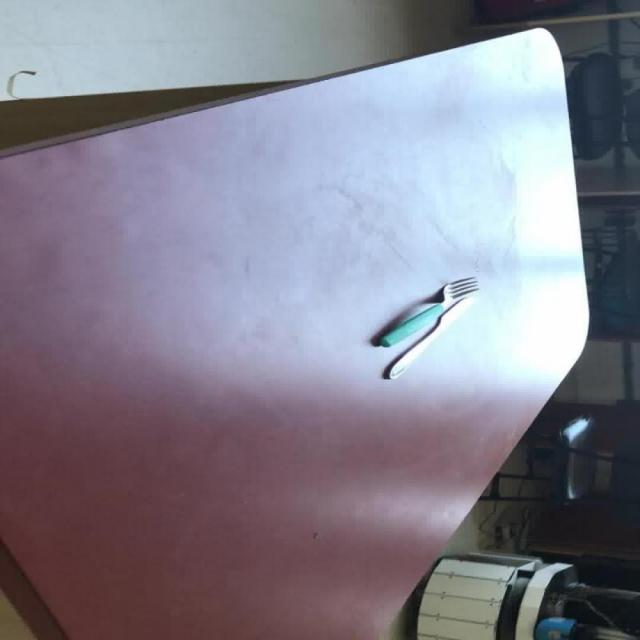Fork: (376, 275, 479, 348)
Knife: (377, 276, 479, 379)
